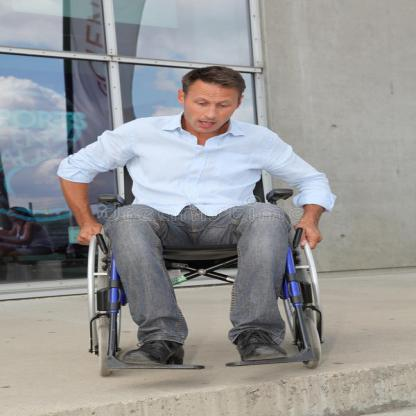wheelchair: (54, 60, 342, 378)
